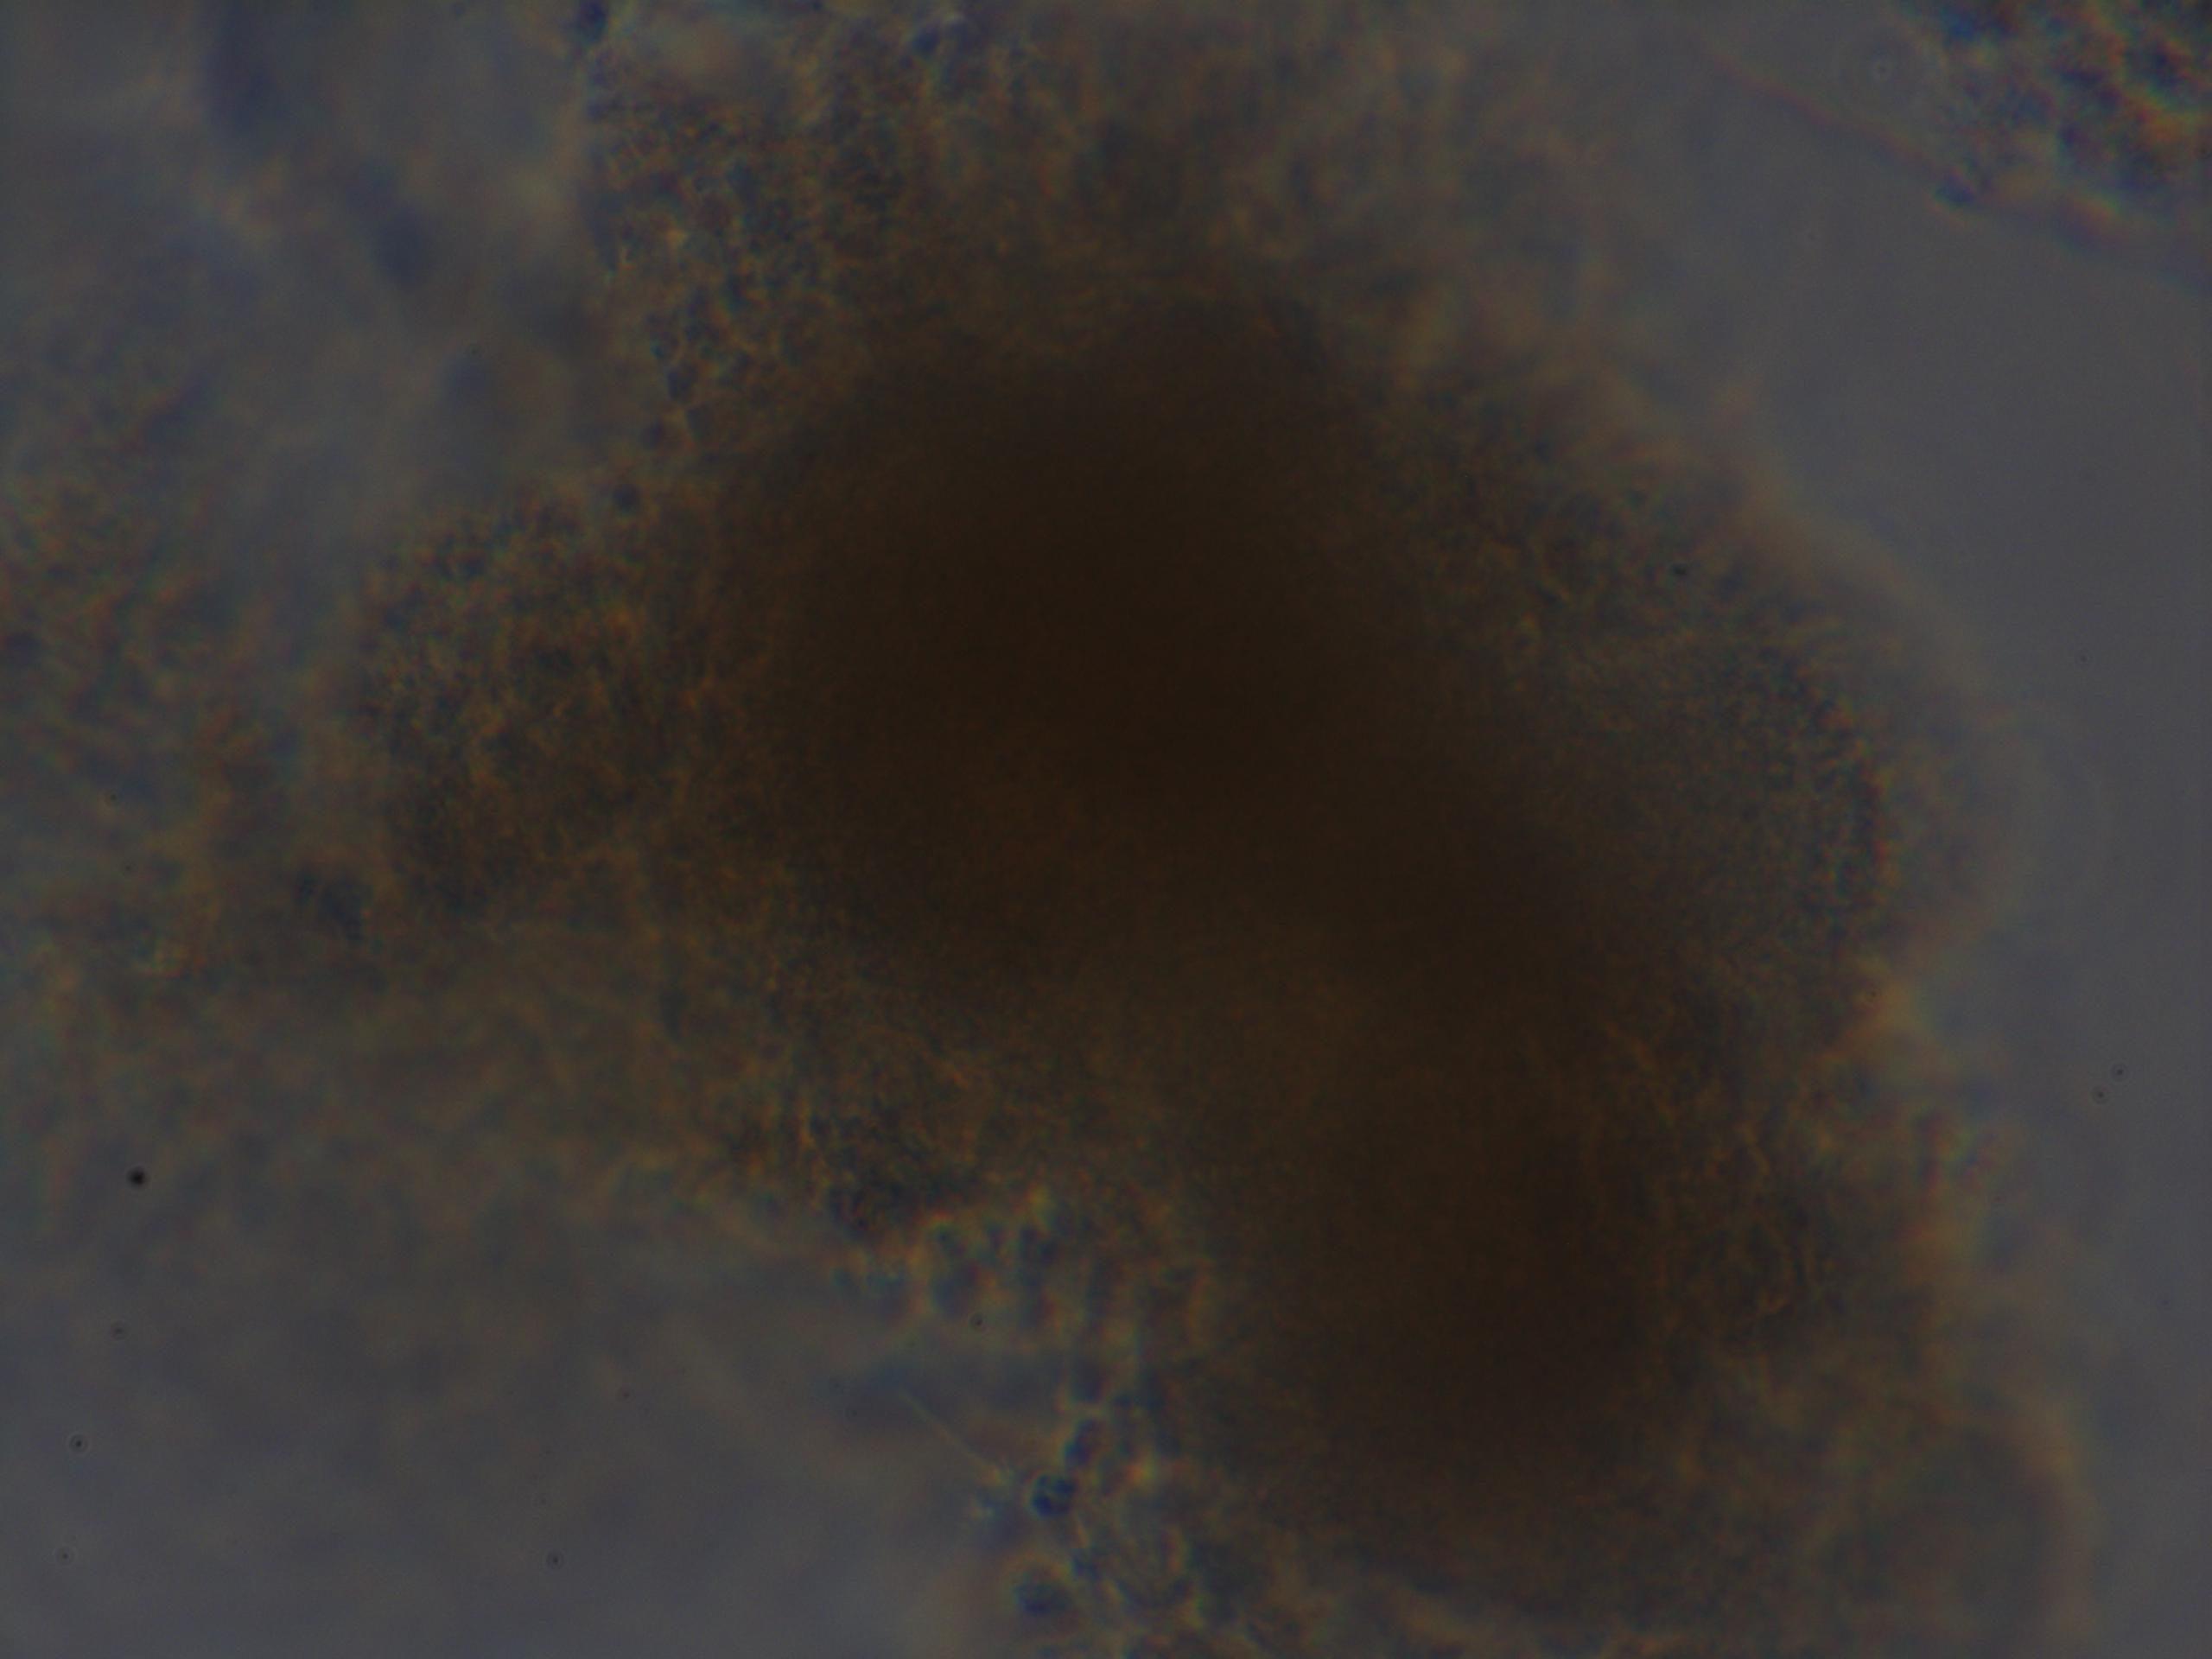spherical_floc: (531, 178, 1914, 1659)
